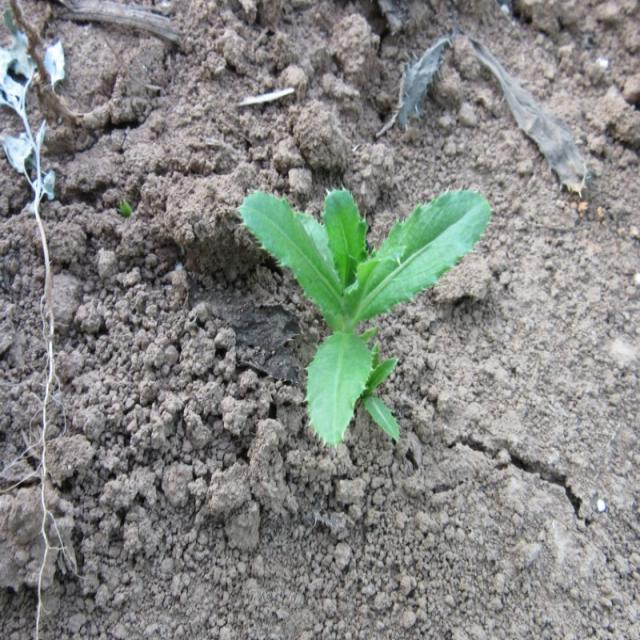cs: (238, 184, 493, 447)
